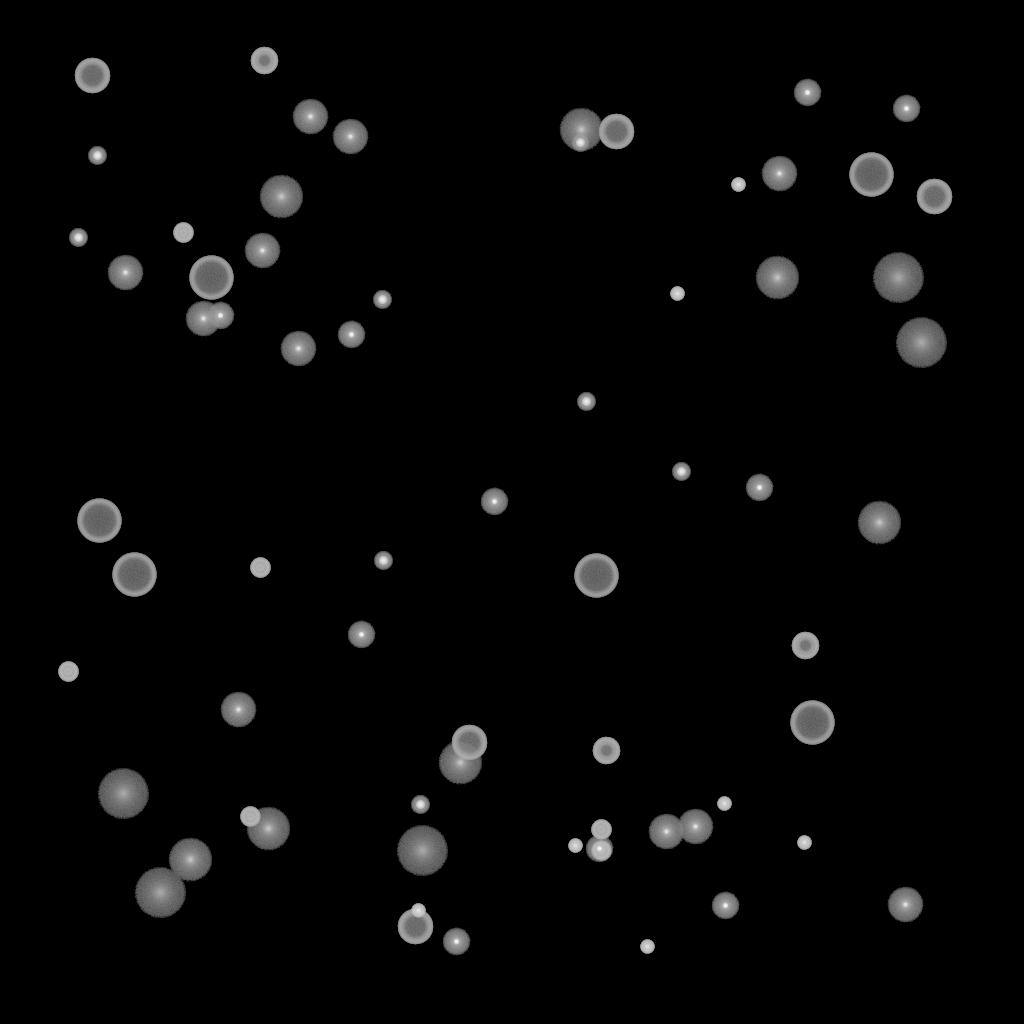depth:-10: (442, 928, 470, 956), (745, 474, 773, 502), (711, 892, 739, 920), (480, 488, 508, 516), (206, 302, 234, 330), (347, 621, 375, 649), (337, 321, 365, 349), (793, 79, 821, 107), (892, 95, 920, 123), (585, 835, 613, 863)
depth:-20: (411, 796, 429, 814), (69, 229, 87, 247), (374, 552, 392, 570), (672, 463, 690, 481), (577, 393, 595, 411), (571, 134, 589, 152), (373, 291, 391, 309), (88, 147, 106, 165)
depth:-30: (640, 940, 654, 954), (731, 178, 745, 192), (411, 904, 425, 918), (568, 839, 582, 853), (670, 287, 684, 301), (717, 797, 731, 811), (797, 836, 811, 850)
depth:-40: (591, 841, 611, 861), (250, 558, 270, 578), (58, 662, 78, 682), (240, 807, 260, 827), (591, 820, 611, 840), (173, 223, 193, 243)
depth:-50: (250, 47, 278, 75), (791, 632, 819, 660), (592, 737, 620, 765)
depth:-60: (916, 179, 952, 215), (397, 909, 433, 945), (74, 58, 110, 94), (598, 114, 634, 150), (451, 725, 487, 761)
depth:-70: (112, 553, 156, 597), (849, 153, 893, 197), (574, 554, 618, 598), (77, 499, 121, 543), (790, 701, 834, 745), (189, 256, 233, 300)
depth:0: (185, 301, 221, 337), (292, 99, 328, 135), (648, 814, 684, 850), (887, 887, 923, 923), (332, 119, 368, 155), (761, 156, 797, 192), (677, 809, 713, 845), (244, 233, 280, 269), (220, 692, 256, 728), (280, 331, 316, 367), (107, 255, 143, 291)
depth:10: (246, 807, 290, 851), (857, 501, 901, 545), (755, 256, 799, 300), (559, 108, 603, 152), (438, 741, 482, 785), (168, 838, 212, 882), (259, 175, 303, 219)
depth:20: (396, 826, 448, 876), (895, 318, 947, 368), (97, 769, 149, 819), (872, 253, 924, 303), (134, 868, 186, 918)
